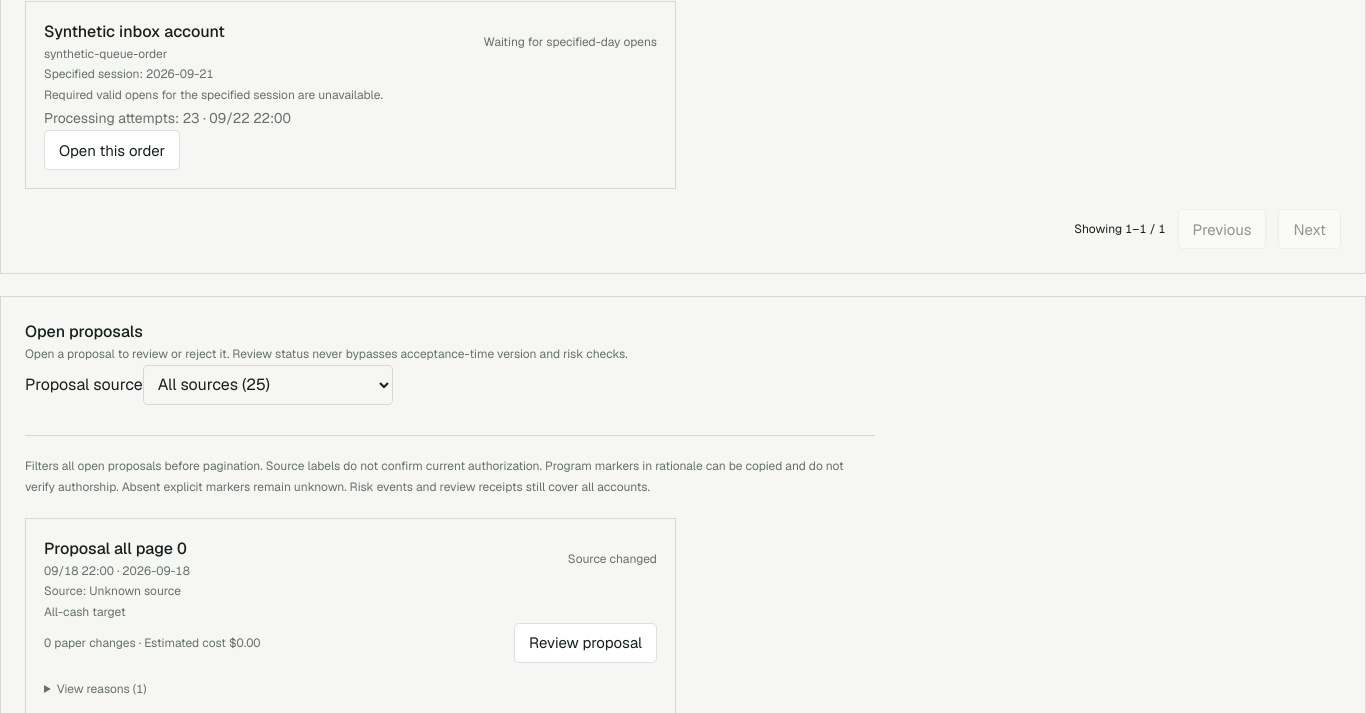
Test: hides mismatched proposal rows during a source change and ignores an aborted late response
(page scrolled)
Select "Automation (3)" in the dropdown labelled "Proposal source" at (268, 384), box [143, 364, 393, 404]
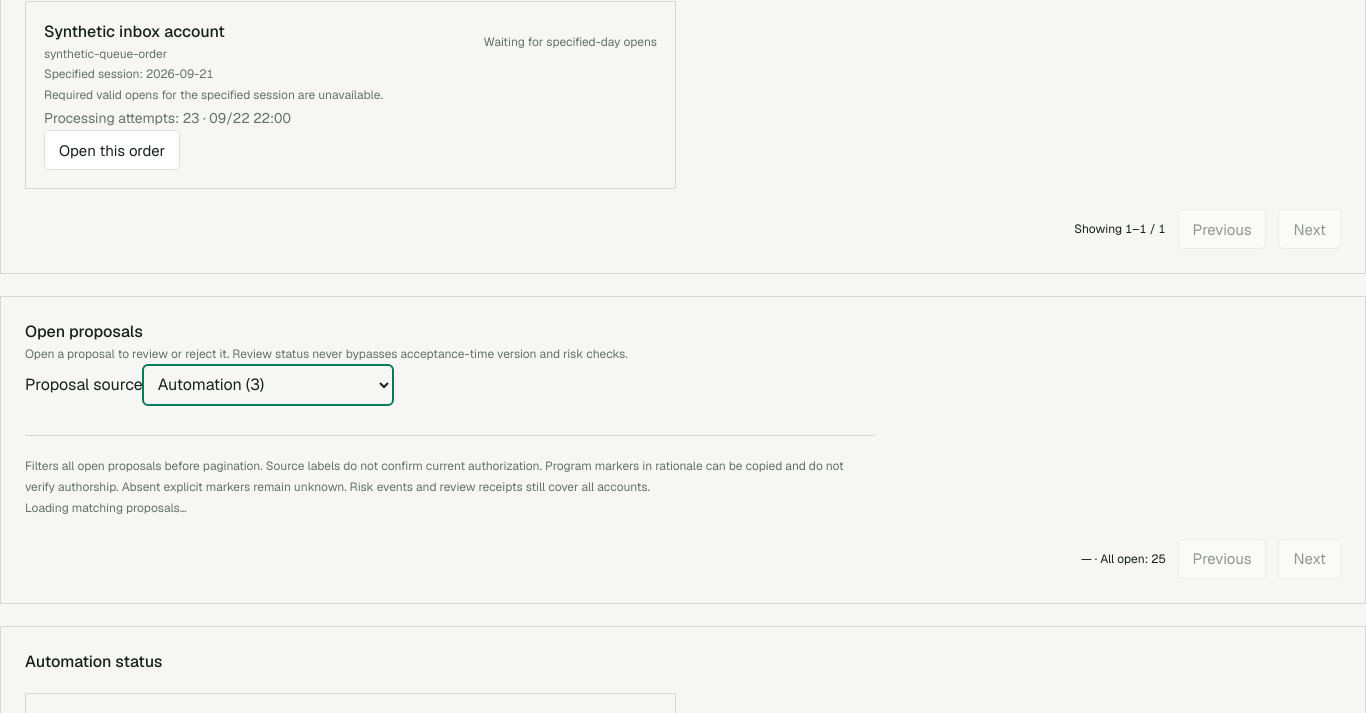
Expected: the button "Review proposal" is gone
Expected: the message reads "Loading matching proposals…", [25, 500, 187, 516]
Select "Jev decision gate (0)" in the dropdown labelled "Proposal source" at (268, 384), box [143, 364, 393, 404]
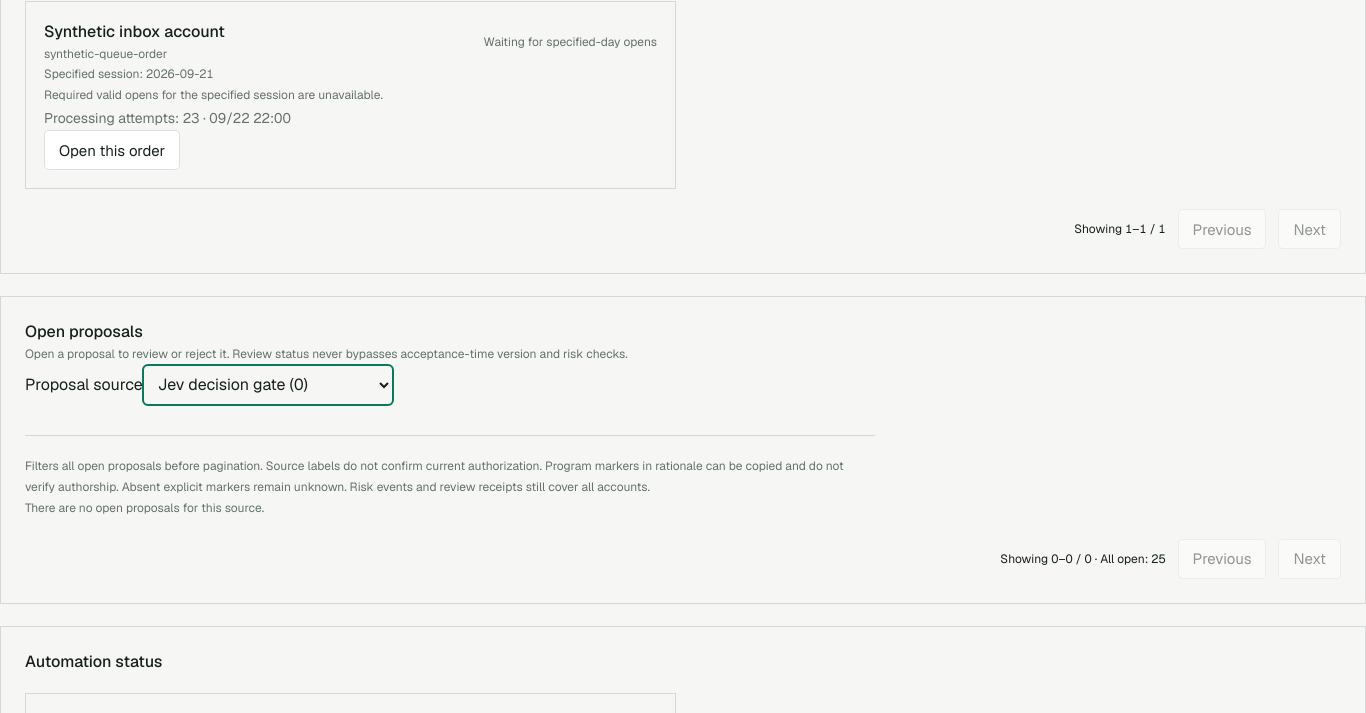
Expected: the text "There are no open proposals for this source." is shown, [25, 500, 264, 516]
Expected: the text "Showing 0–0 / 0 · All open: 25" is shown, [1000, 550, 1166, 568]
